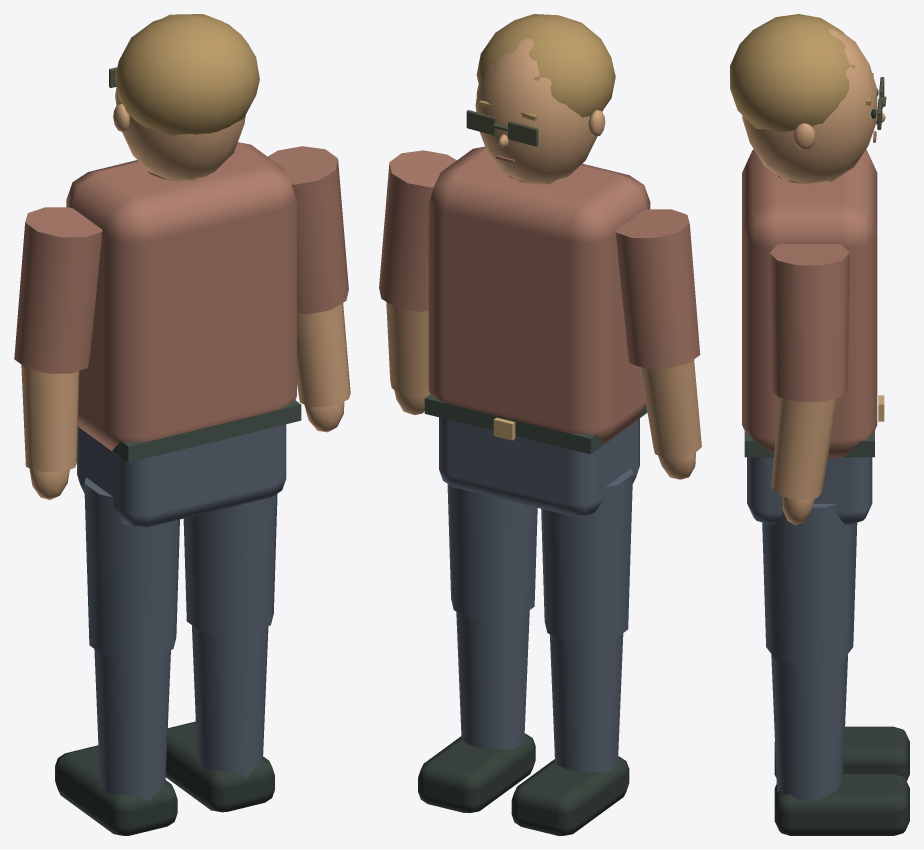
The model's file is scout-12.glb.
3 views of the same model, side by side, from view 1: azimuth 30°, elevation 25°; view 2: azimuth 150°, elevation 25°; view 3: azimuth 270°, elevation 25° (orthographic). The views are drawn at different scales.
Parts seen in each view (by area): view 1: Scout character 12, left-upper-arm, right-upper-arm; view 2: Scout character 12, left-upper-arm, right-upper-arm; view 3: Scout character 12, right-upper-arm.
Boxes of the visible parts, <box> form: Scout character 12: <box>55,14,301,835</box>; left-upper-arm: <box>14,207,102,499</box>; right-upper-arm: <box>268,146,350,432</box>; Scout character 12: <box>418,14,650,835</box>; left-upper-arm: <box>615,209,701,479</box>; right-upper-arm: <box>379,150,456,414</box>; Scout character 12: <box>730,14,909,835</box>; right-upper-arm: <box>769,244,849,524</box>.
Bounding box in the file's own units: 0.7284 × 1.72 × 0.359.
